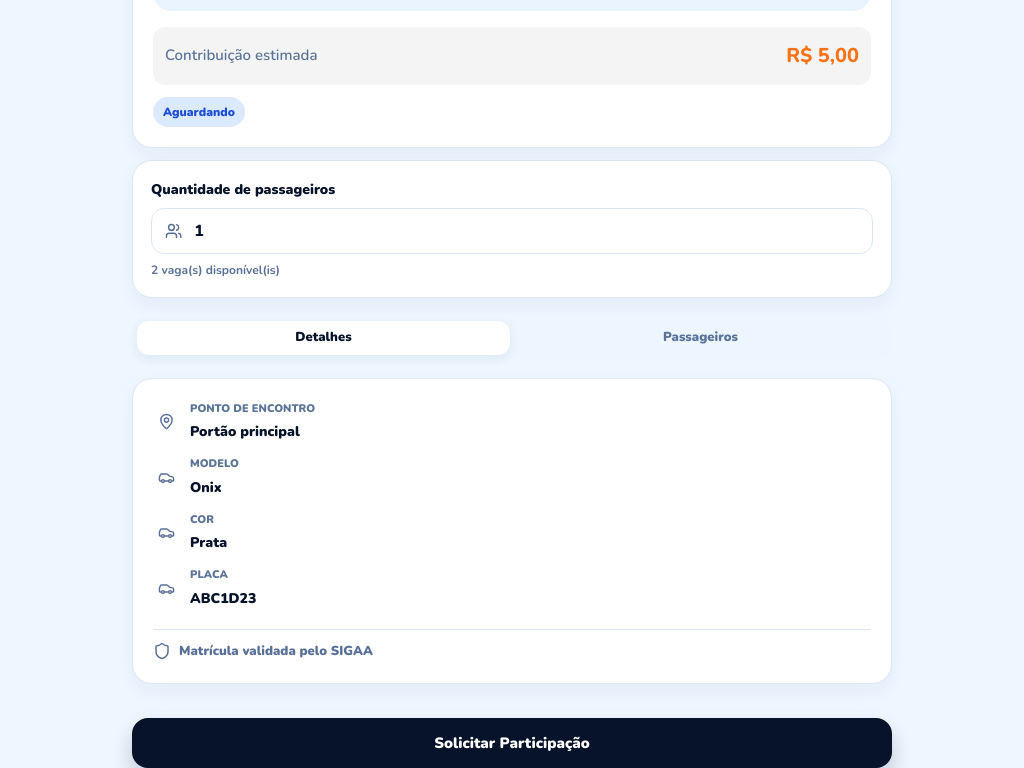
Test case: DetalheCarona — solicitação de participação › bloqueia a solicitação quando não há endereço de embarque no state
(page scrolled)
Click the button "Solicitar Participação".
click(512, 743)  # box [132,718,892,767]
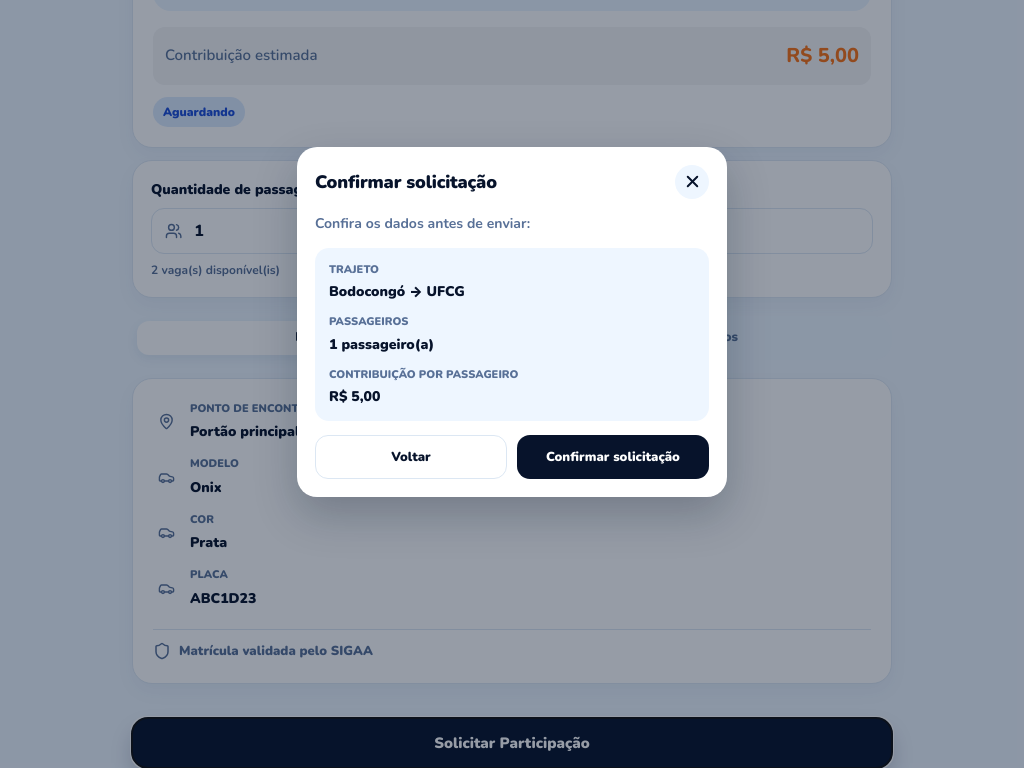
Click the button "Confirmar solicitação".
click(613, 457)  # box [517,435,709,479]
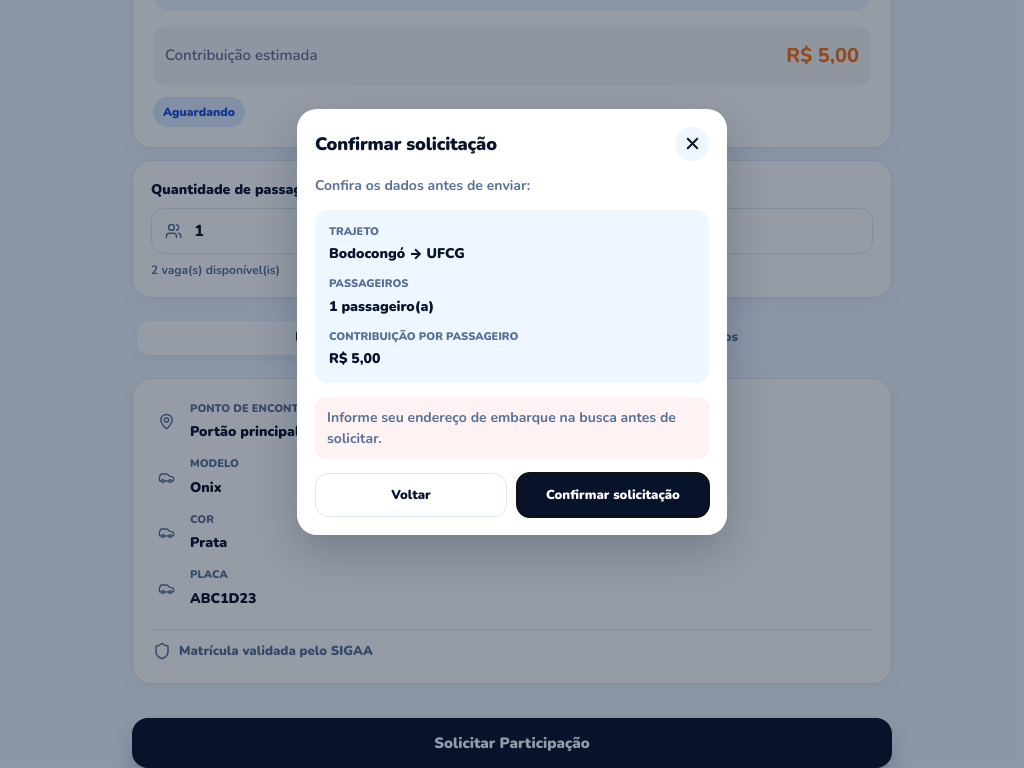
Expected: the message reads "Informe seu endereço de embarque na busca antes de solicitar.", [327,408,676,448]
